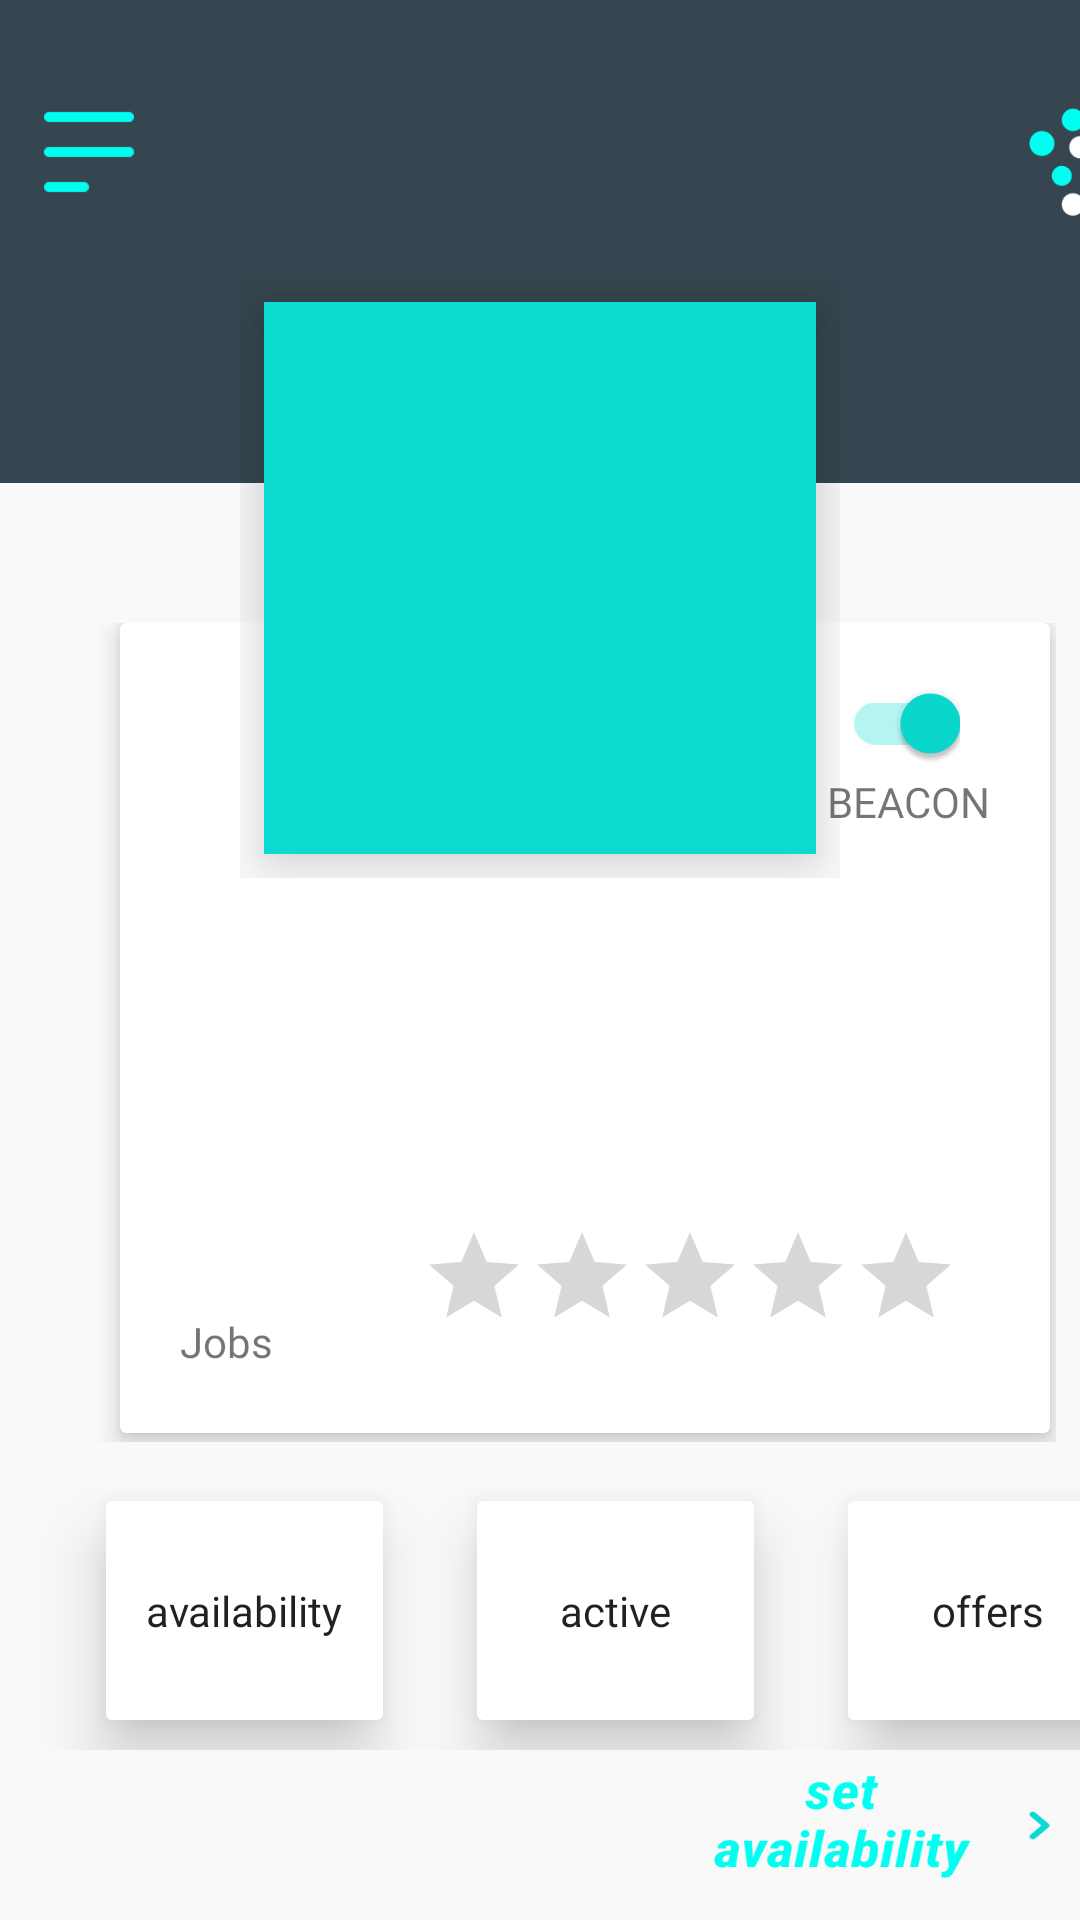

Screen size 1080 × 1920. Icon name, then its box in pixels as (x1, y1, x2, y2):
menu: (44, 112, 134, 192)
